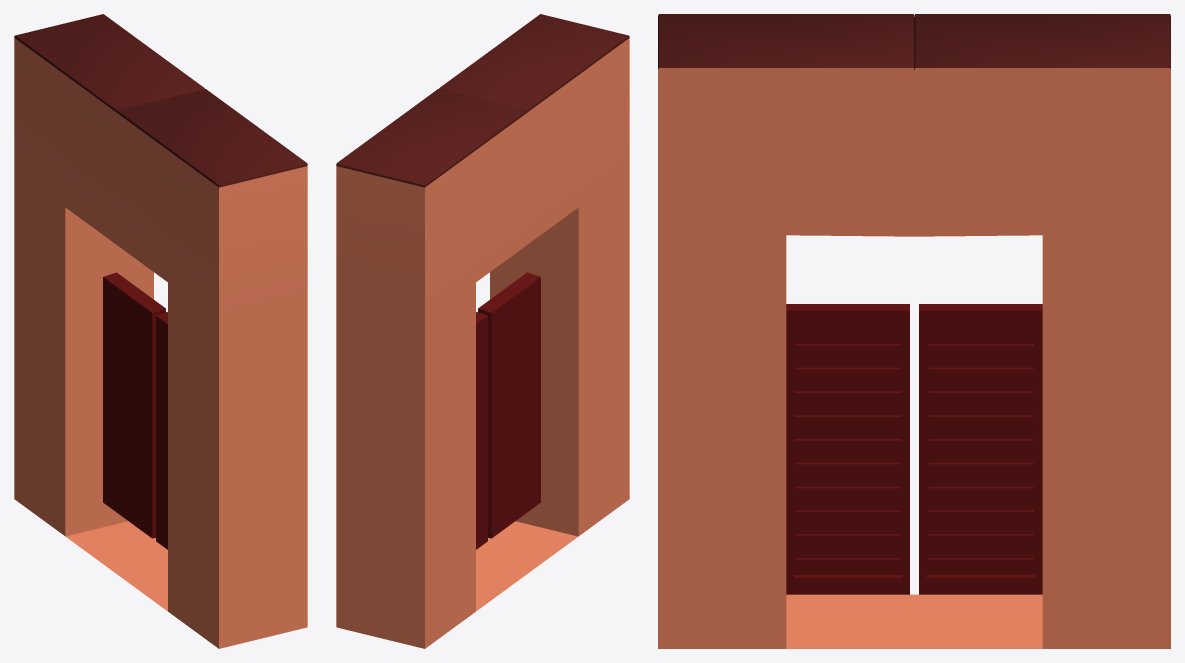
Rendered from Door.fbx.
3 renders of one model, left to right at view 1: azimuth 30°, elevation 25°; view 2: azimuth 150°, elevation 25°; view 3: azimuth 270°, elevation 25°, orthographic. The views are drawn at different scales.
Parts seen in each view (by area): view 1: Cube.007; view 2: Cube.007; view 3: Cube.007.
Boxes of the visible parts, box(x1,y1,x2,y2) form: Cube.007: box(14, 14, 307, 648); Cube.007: box(336, 14, 629, 648); Cube.007: box(658, 14, 1170, 648).
Size of the model in its own units: 100 by 500 by 400.
